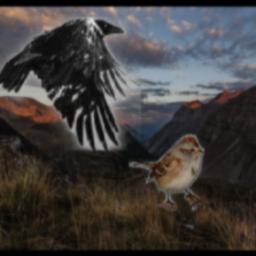Crow: (0, 17, 142, 150)
Sparrow: (129, 135, 204, 212)
